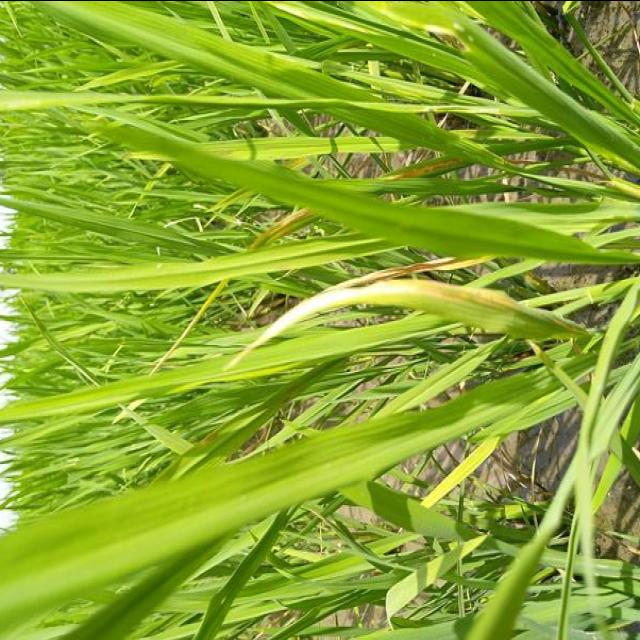Leaf Blight: (228, 276, 561, 368), (155, 278, 231, 372), (248, 207, 318, 249), (390, 152, 465, 177)
